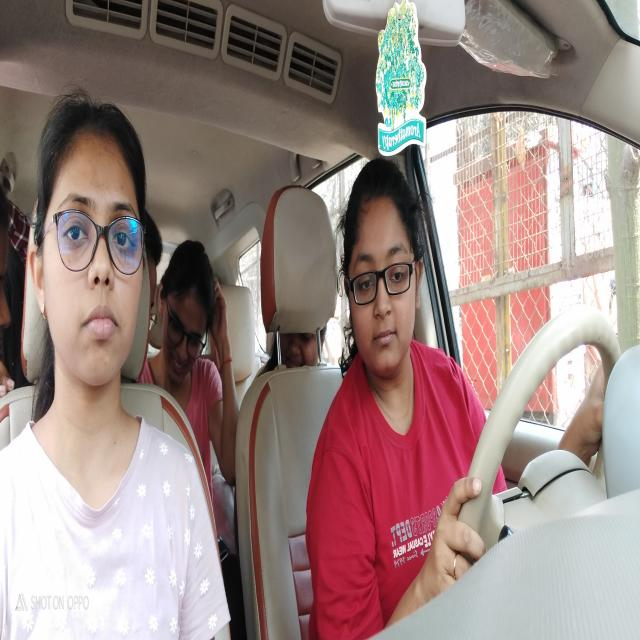person: (30, 81, 149, 384), (338, 161, 425, 382), (158, 238, 217, 379), (0, 193, 15, 400), (277, 329, 323, 374)
